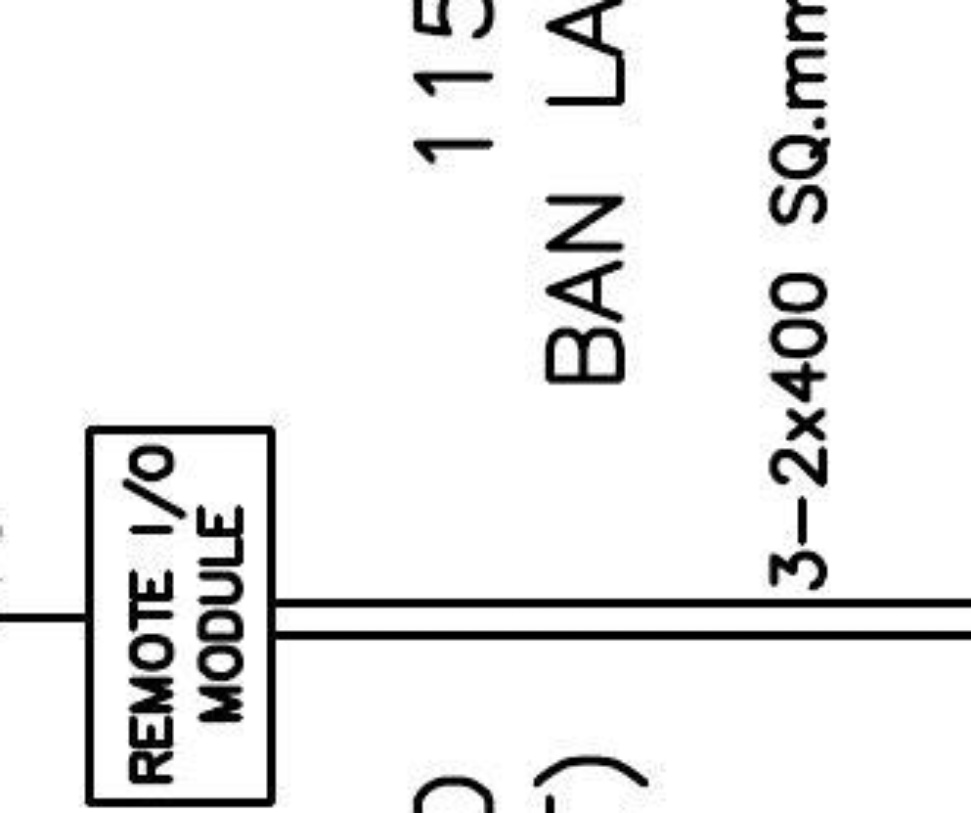remote_io_module: (85, 425, 278, 809)
